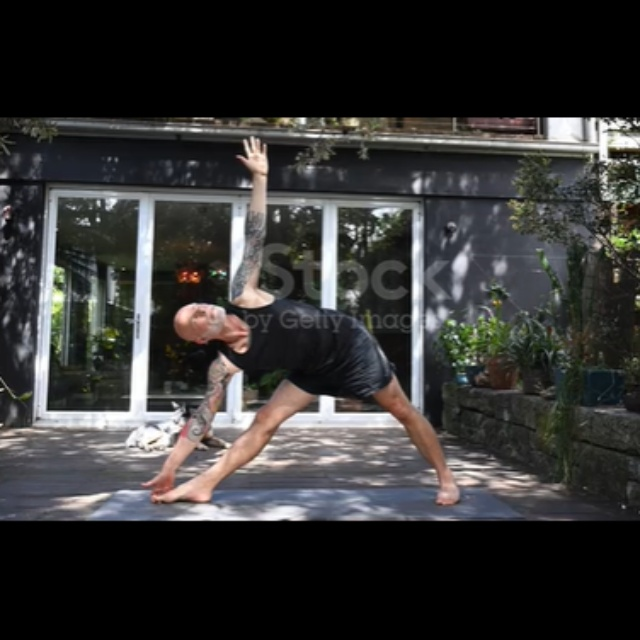Triangle_Pose: (140, 134, 468, 509)
